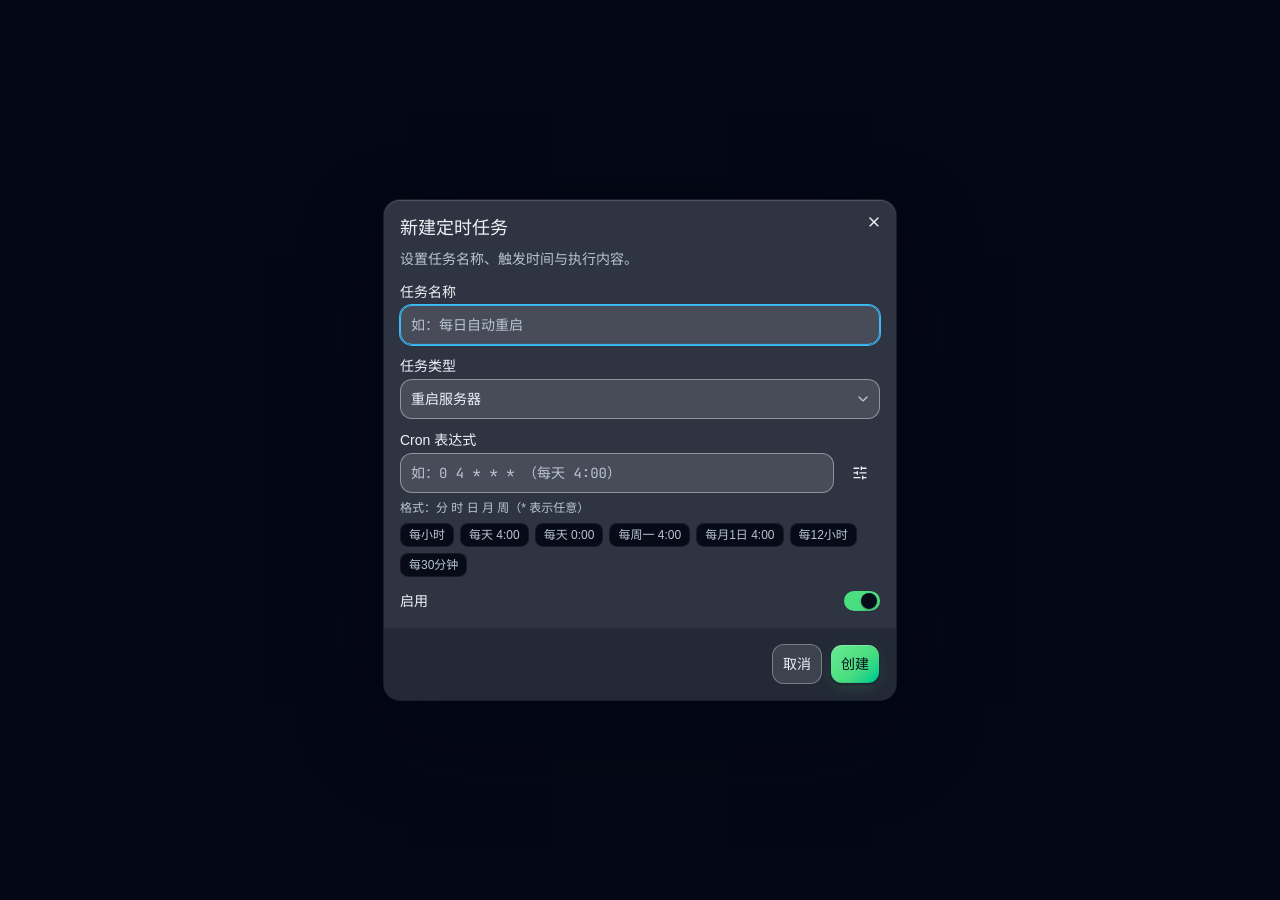
Test case: TaskDialog 新建模式与校验 › 类型切换：command 显示命令框，切回其他类型隐藏
This screenshot has width=1280, height=900.
Expected: the field labelled "执行的命令" is not shown
Click the dropdown named "任务类型" at (446, 399), box [400, 379, 880, 419]
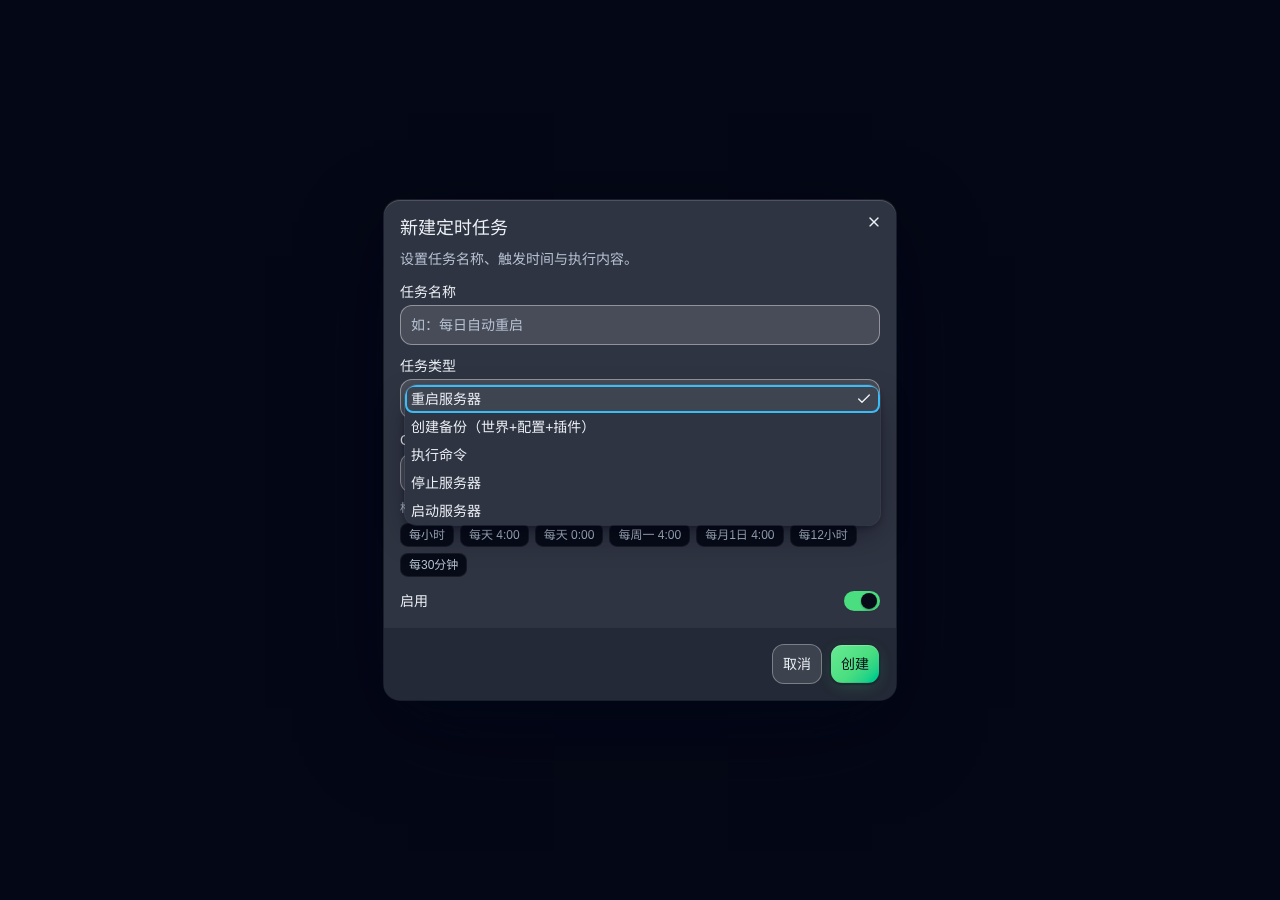
Click the option "执行命令" at (439, 455), box [411, 447, 467, 463]
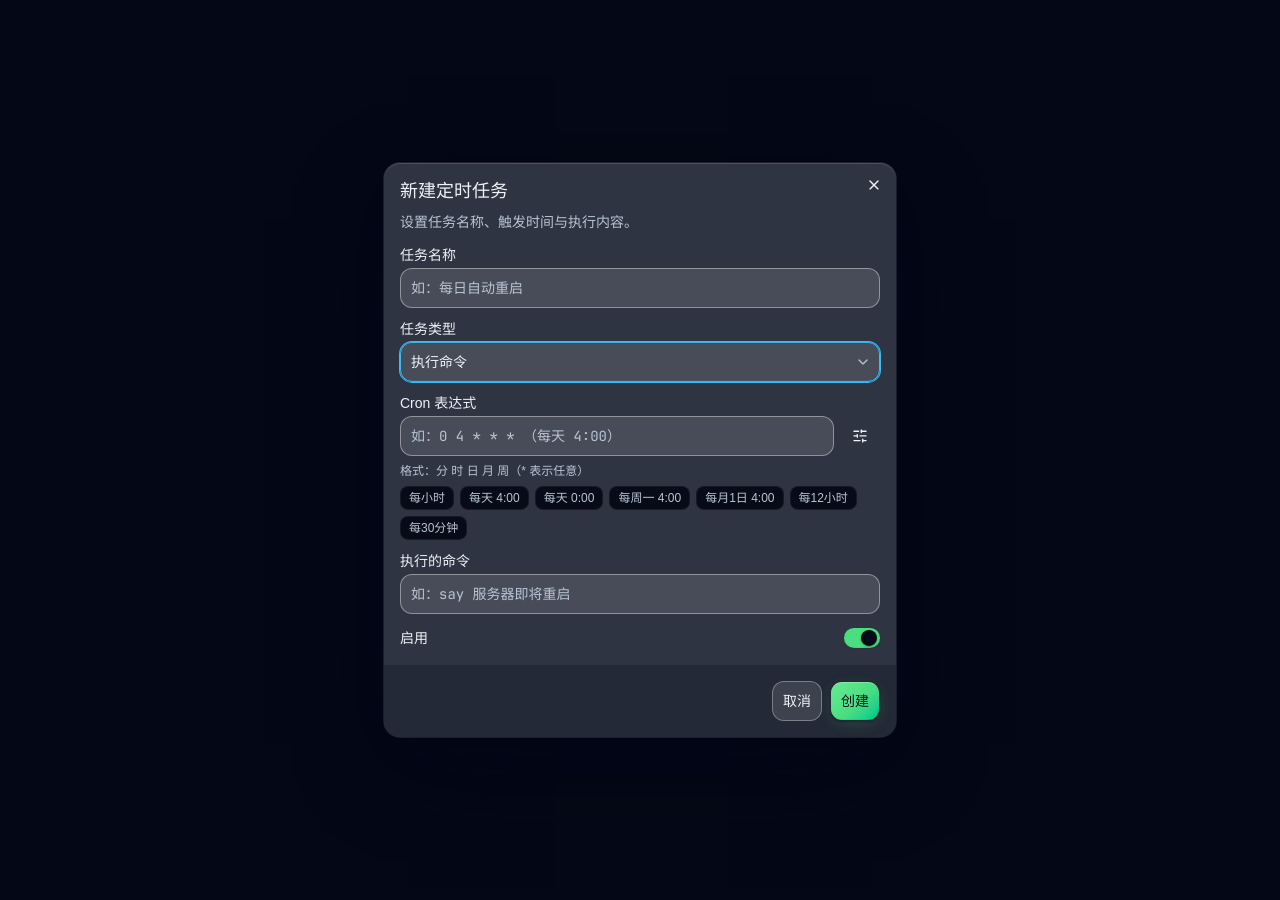
Expected: the field labelled "执行的命令" is shown, [400, 574, 880, 614]
Click the dropdown named "任务类型" at (439, 362), box [400, 342, 880, 382]
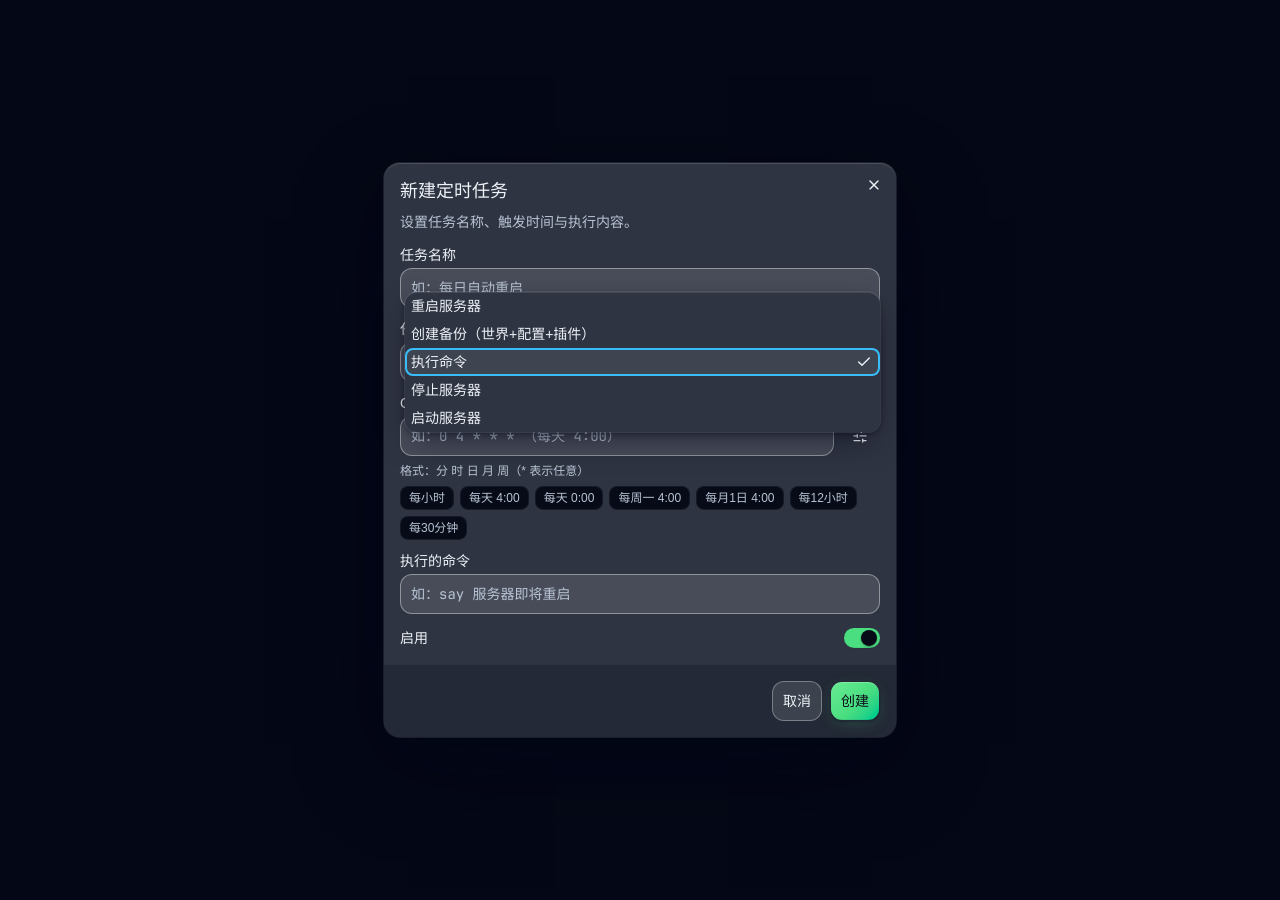
Click the option "重启服务器" at (446, 306), box [411, 298, 481, 314]
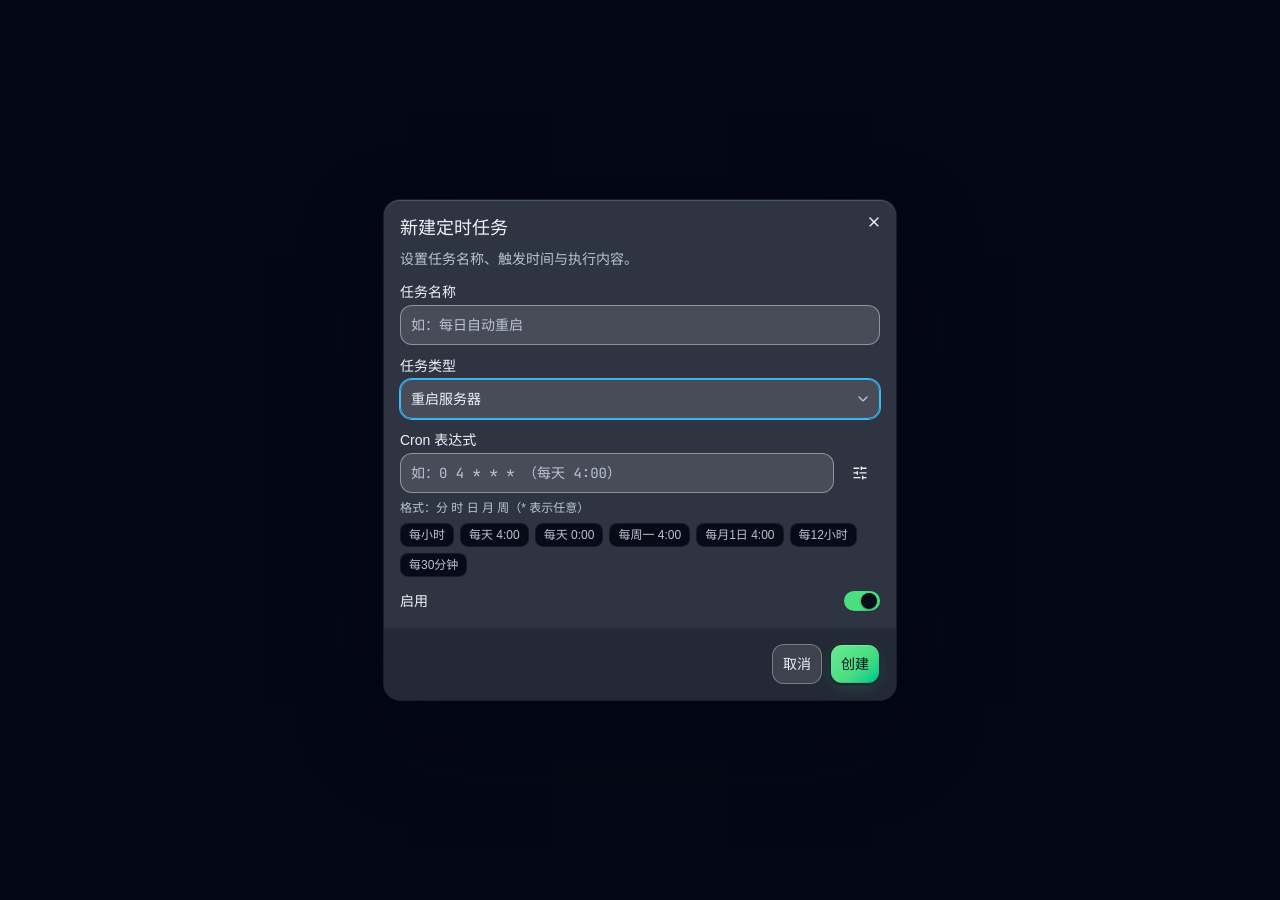
Expected: the label labelled "执行的命令" is gone
